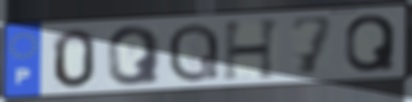0: (50, 26, 99, 91)
7: (288, 14, 336, 79)
H: (221, 16, 284, 83)
Q: (105, 24, 164, 88), (166, 21, 222, 85), (343, 12, 399, 75)
